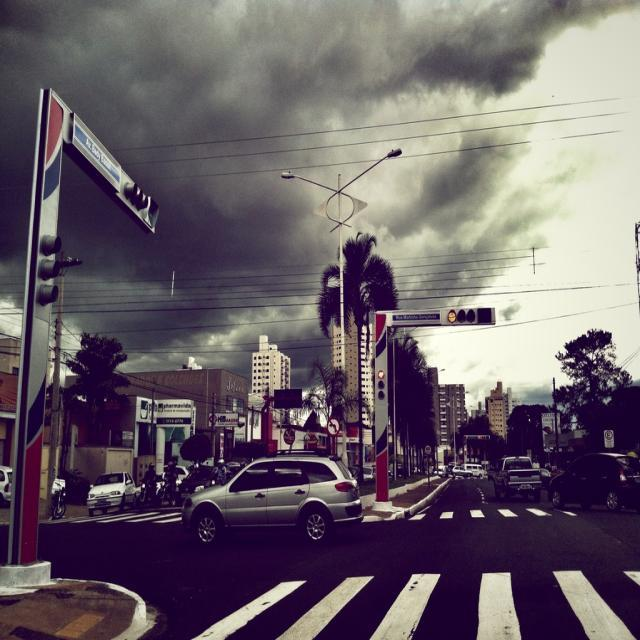road_sign: (325, 416, 341, 436)
traffic light: (443, 309, 476, 326)
